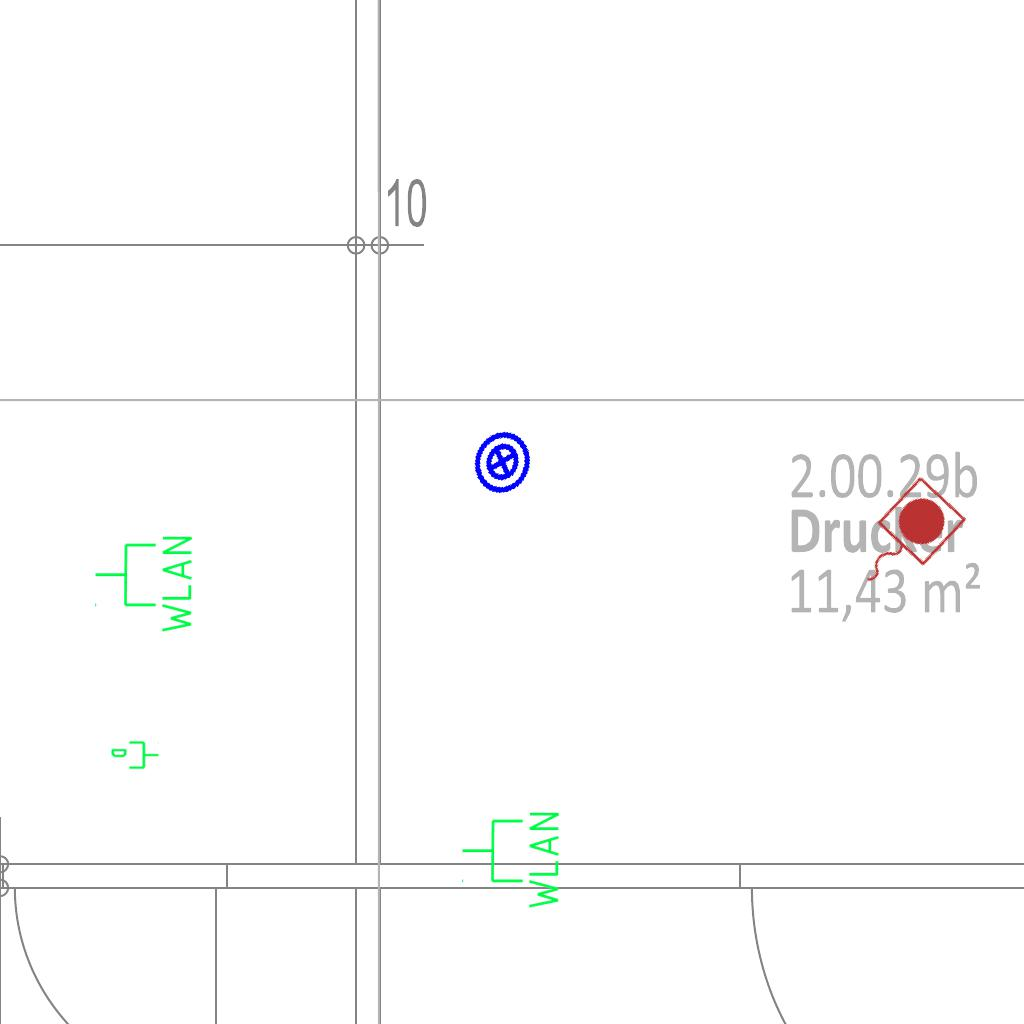Datenanschluss_einfach: (110, 739, 160, 773)
Taster_beleuchtet: (460, 420, 544, 504)
WLAN: (459, 808, 563, 913), (92, 532, 196, 637)
Zugtaster: (836, 469, 972, 609)
